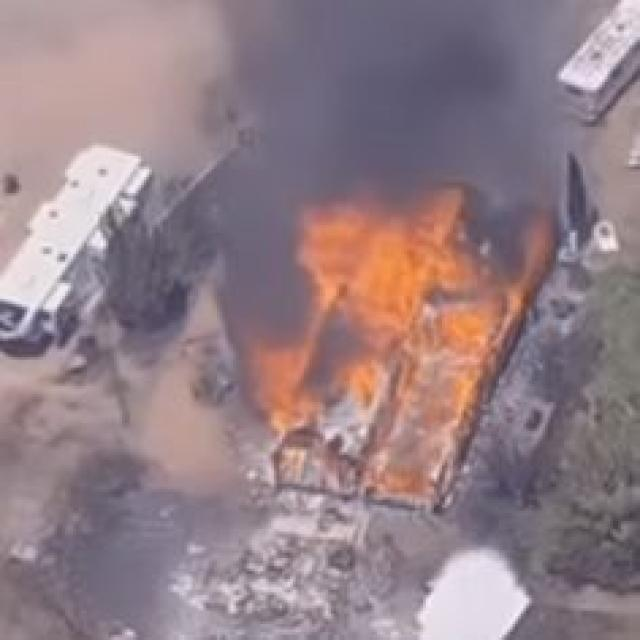Fire: (312, 220, 496, 360), (264, 359, 458, 478)
Smoke: (218, 9, 537, 185)
